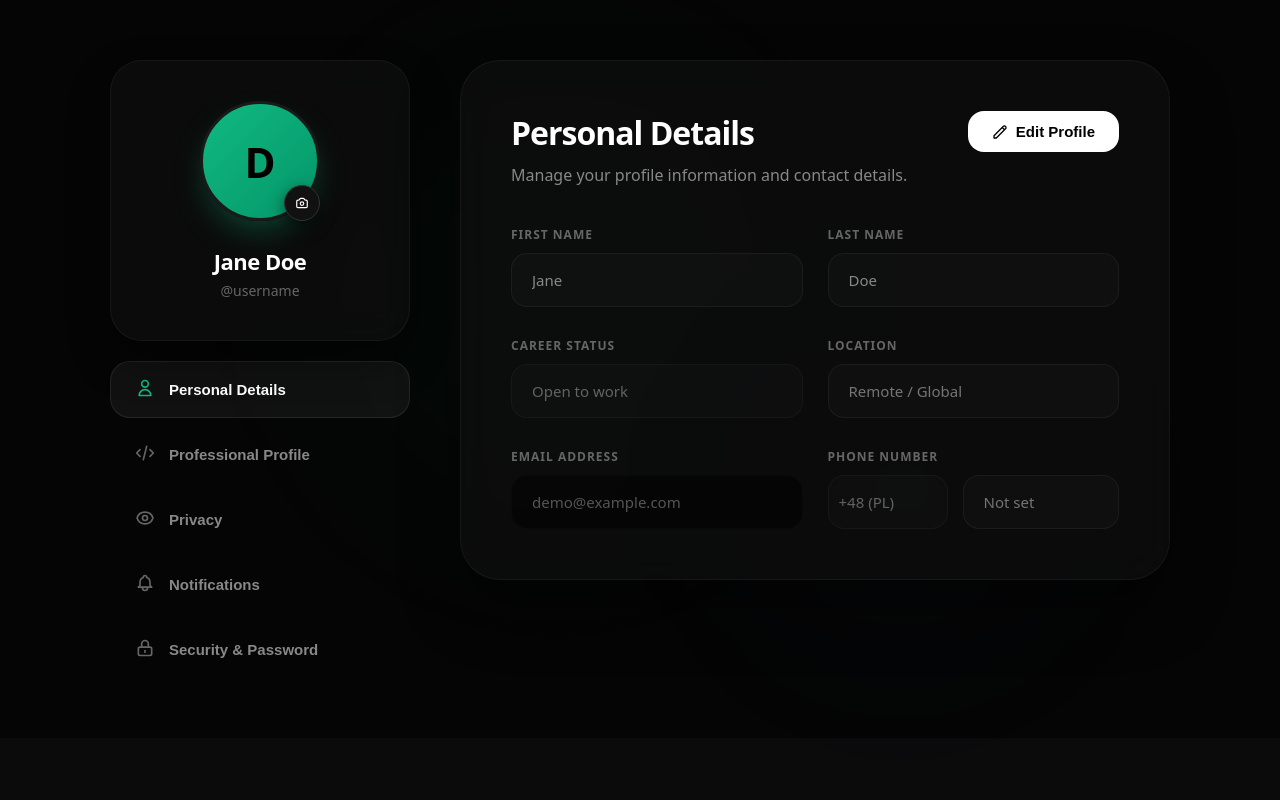
Test: saves keyboard volume changes once and restores the last saved volume after failure
The width and height of the screenshot is (1280, 800).
Click the button "Notifications" at (260, 584), box x1=110 y1=556 x2=410 y2=613
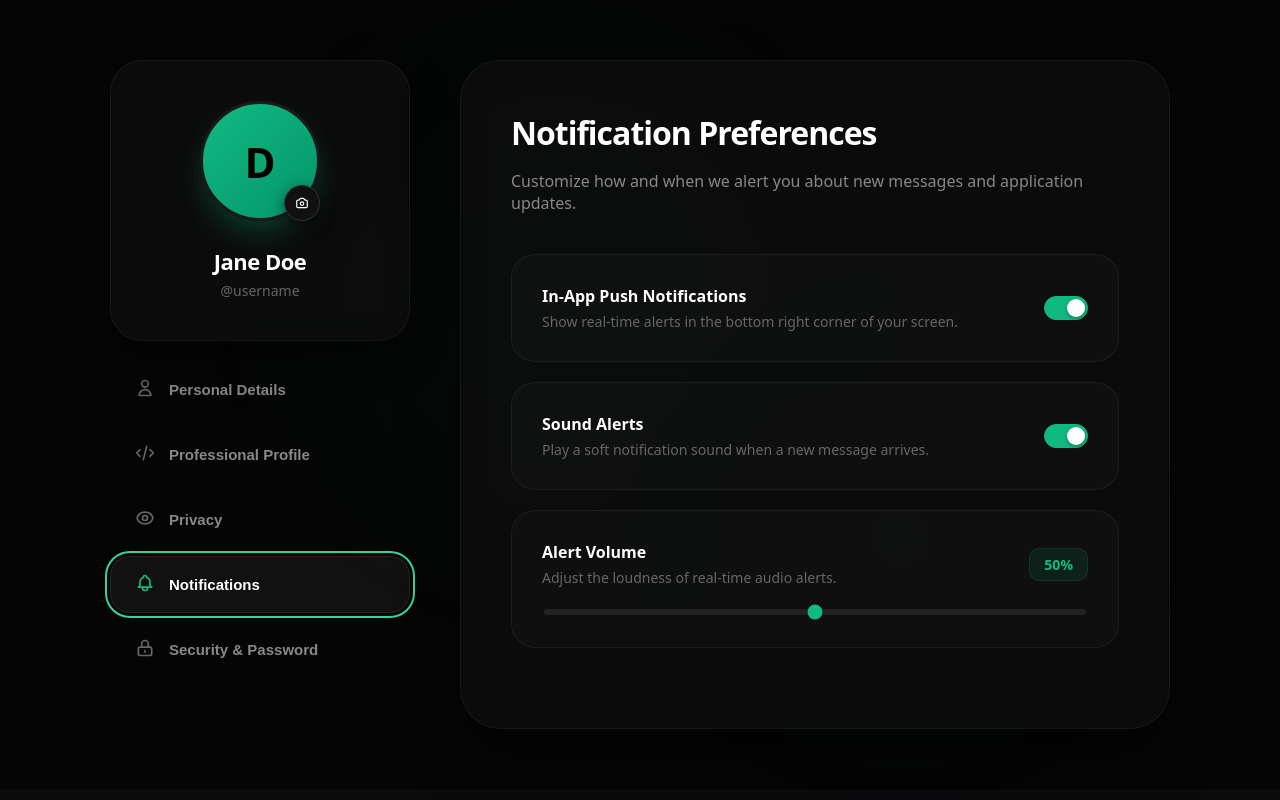
Set the slider named "Alert Volume" to "55" at (841, 612), box x1=544 y1=609 x2=1086 y2=615
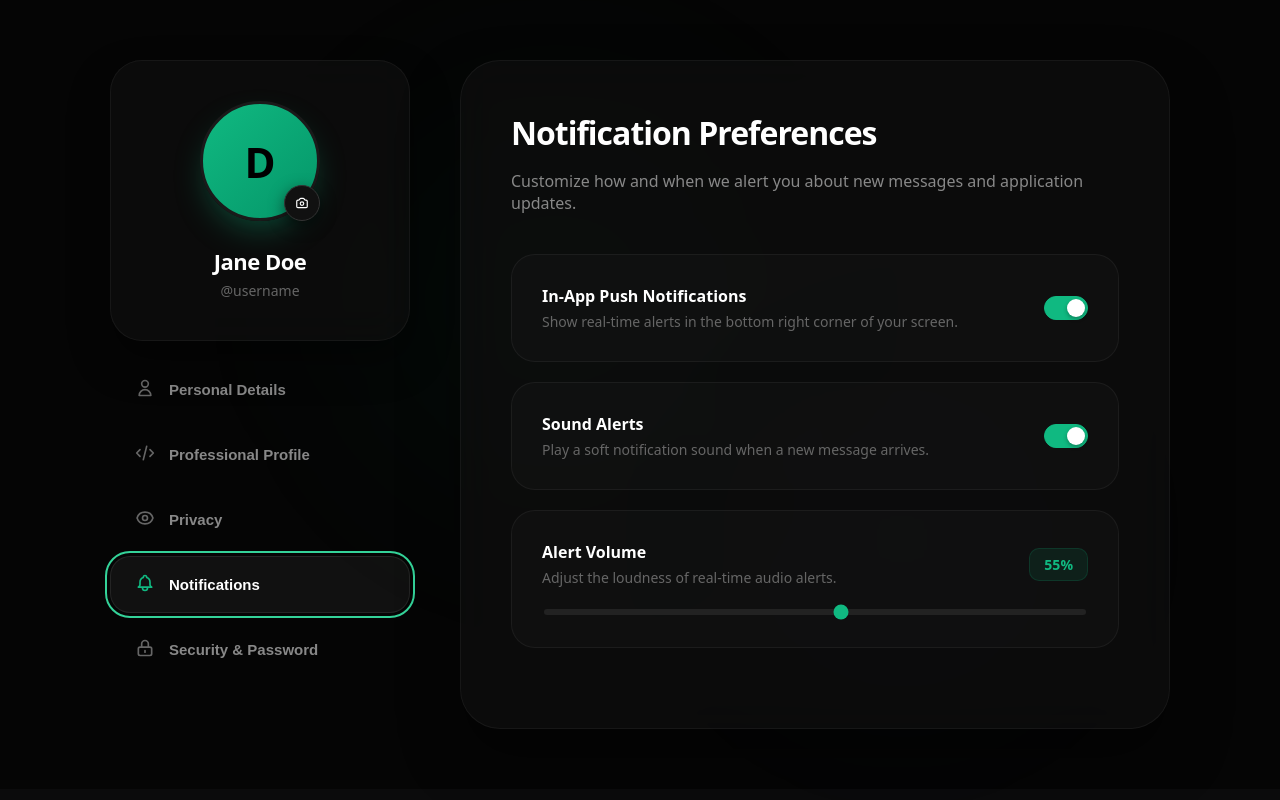
Press ArrowRight in the slider named "Alert Volume", box x1=544 y1=609 x2=1086 y2=615
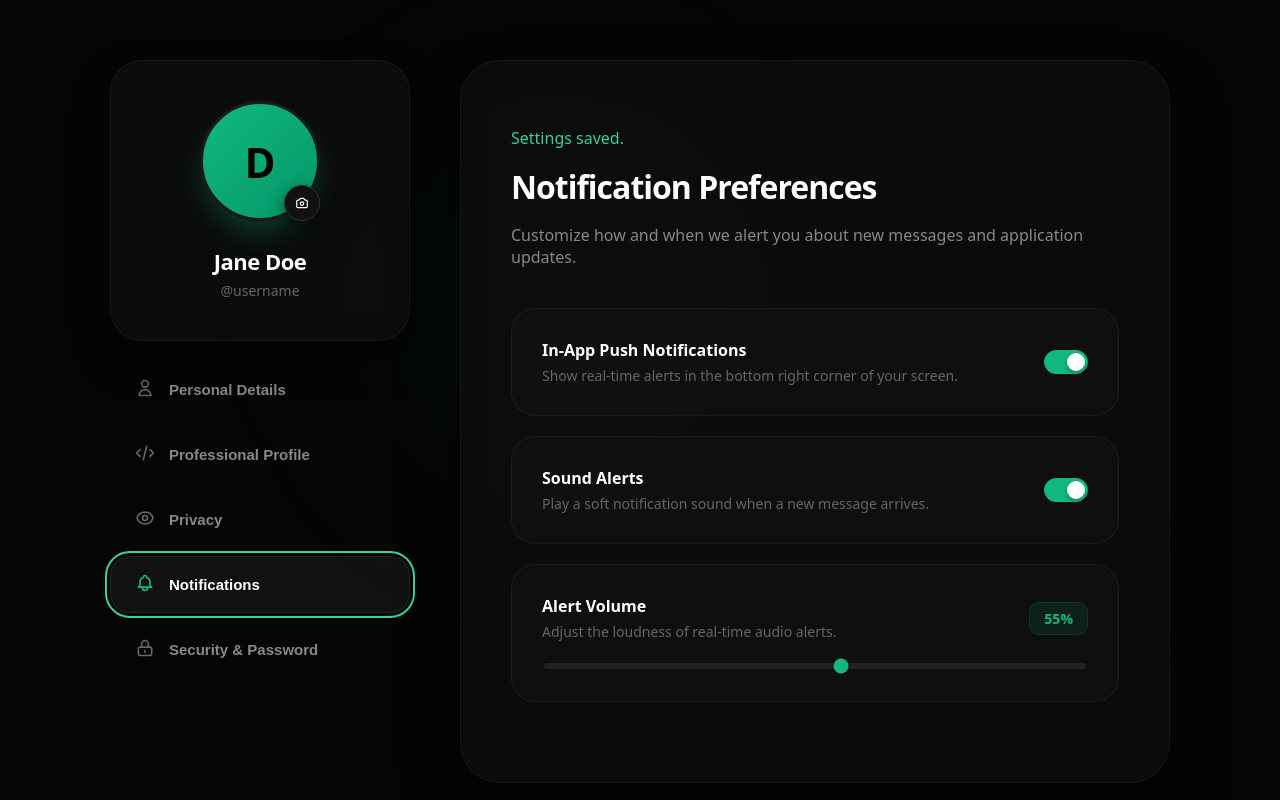
Set the slider named "Alert Volume" to "60" at (868, 666), box x1=544 y1=663 x2=1086 y2=669
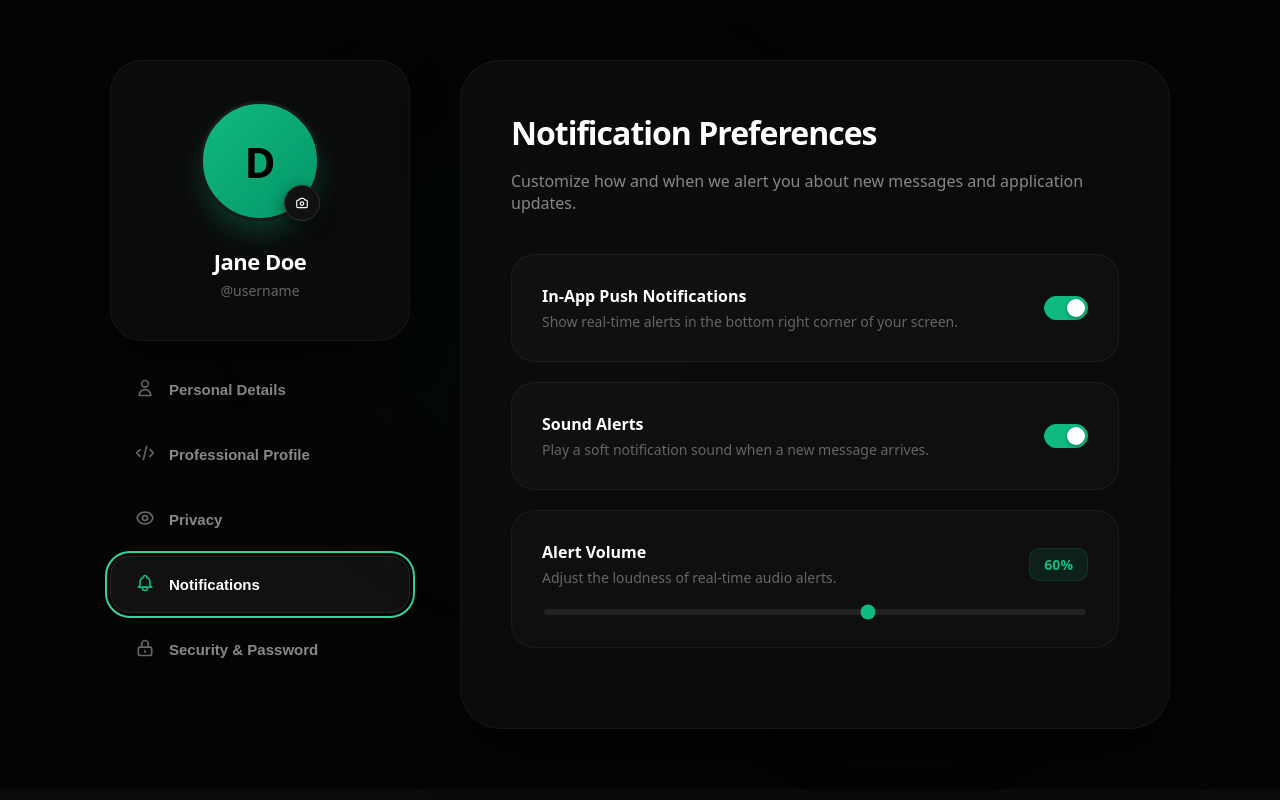
Press ArrowRight in the slider named "Alert Volume", box x1=544 y1=609 x2=1086 y2=615
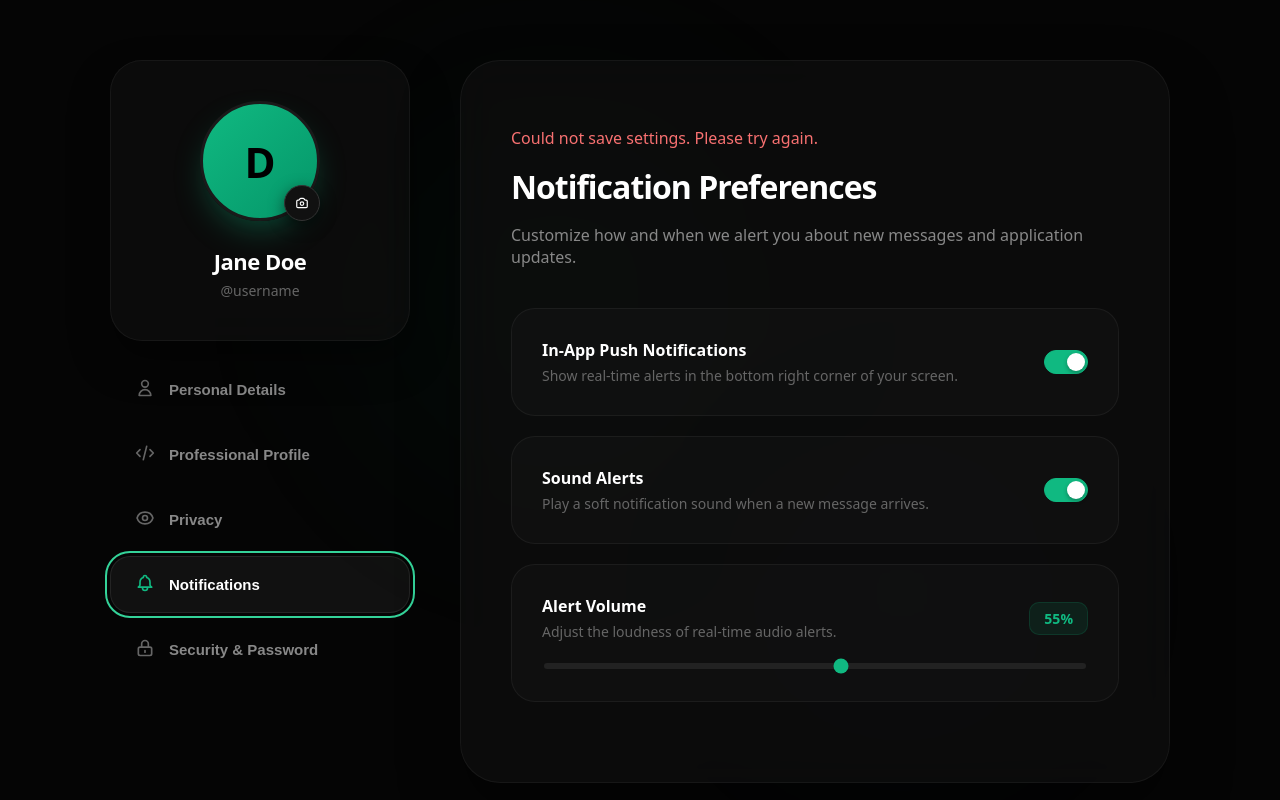
expect the message "Could not save settings. Please try again." is shown: met, box x1=511 y1=127 x2=818 y2=149
